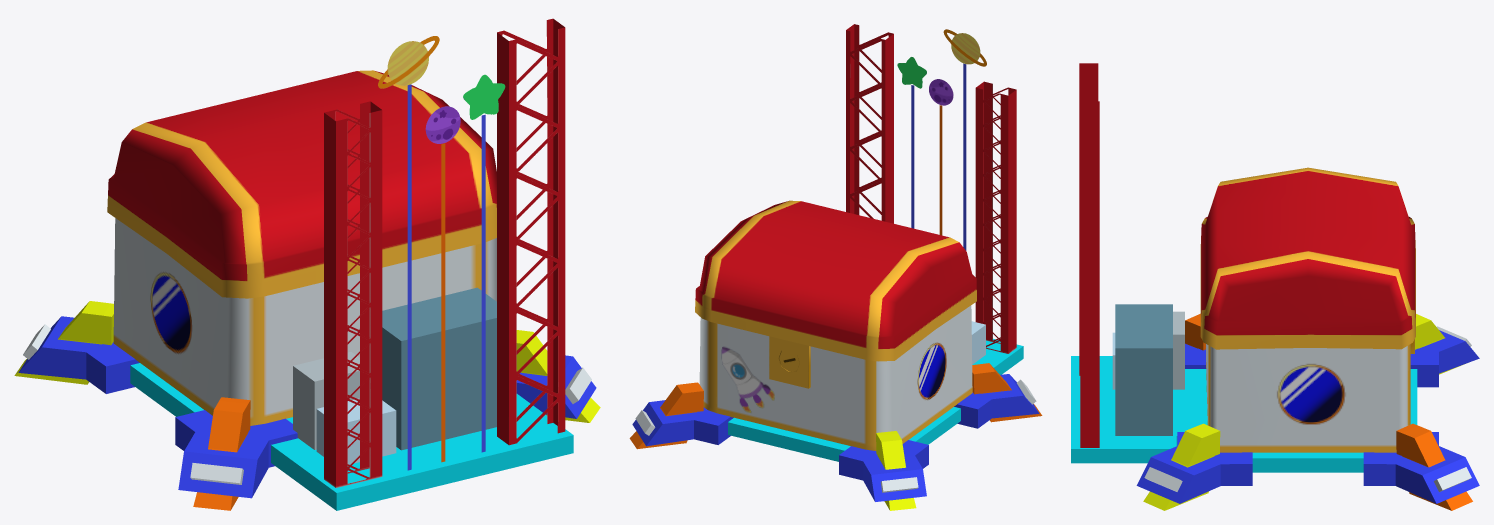
The model's file is Goal_Toybox.fbx.
3 renders of one model, left to right at view 1: azimuth 30°, elevation 25°; view 2: azimuth 150°, elevation 25°; view 3: azimuth 270°, elevation 25°, orthographic. The views are drawn at different scales.
Visible parts, largest first — view 1: Parts, TOYBOX; view 2: TOYBOX, Parts; view 3: TOYBOX, Parts.
Boxes of the visible parts, x1,y1,x2,y2 form: Parts: (14, 18, 600, 510); TOYBOX: (107, 70, 496, 425); TOYBOX: (695, 200, 976, 450); Parts: (629, 24, 1042, 510); TOYBOX: (1200, 167, 1415, 452); Parts: (1071, 63, 1479, 510).
Bounding box in the file's own units: 547 × 606 × 577.
2 materials, 2 textured.
